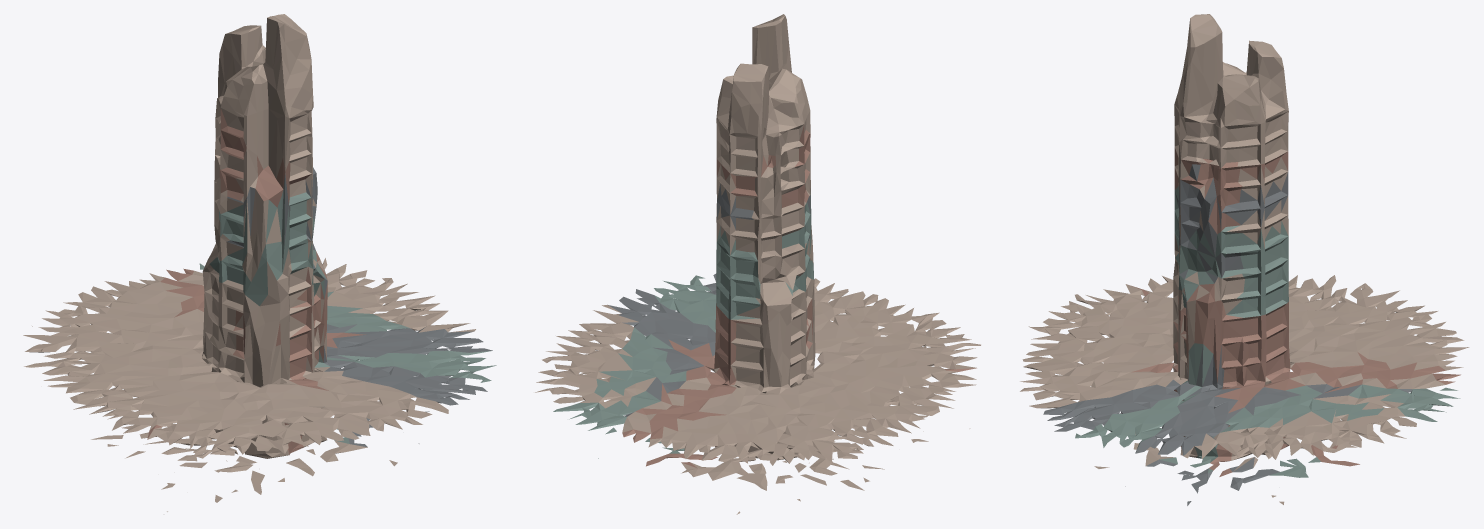
The model's file is skyscraper.glb.
3 views of the same model, side by side, from view 1: azimuth 30°, elevation 25°; view 2: azimuth 150°, elevation 25°; view 3: azimuth 270°, elevation 25° (orthographic). The views are drawn at different scales.
Parts seen in each view (by area): view 1: geometry_0; view 2: geometry_0; view 3: geometry_0.
Boxes of the visible parts, box(x1,y1,x2,y2) form: geometry_0: box(23, 14, 496, 511); geometry_0: box(535, 14, 980, 514); geometry_0: box(1020, 14, 1469, 505).
Bounding box in the file's own units: 1.89 × 1.98 × 1.91.
